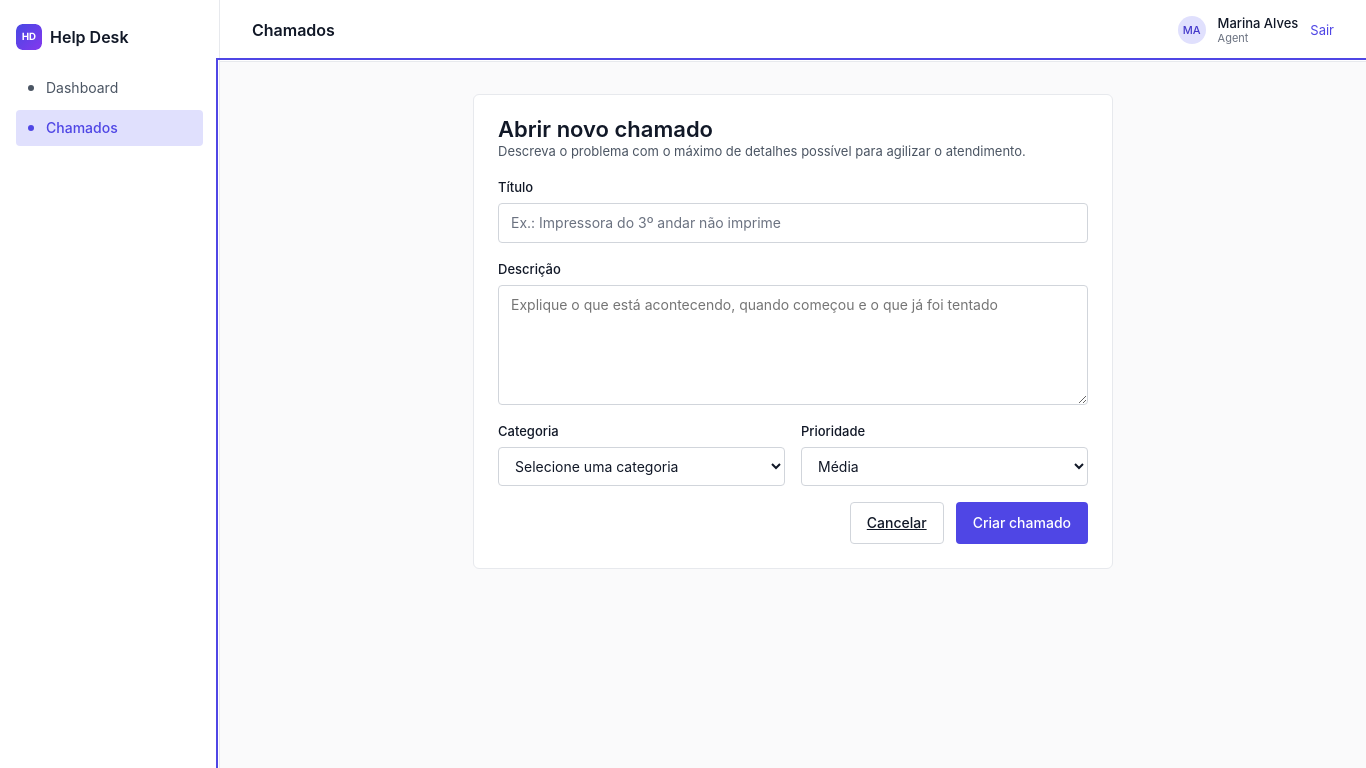
Scenario: NewTicketPage › valida campos obrigatórios
Expected: the dropdown labelled "Categoria" is shown, [498,447,785,486]
Click the button "Criar chamado" at point(1022, 523), box [956,502,1088,544]
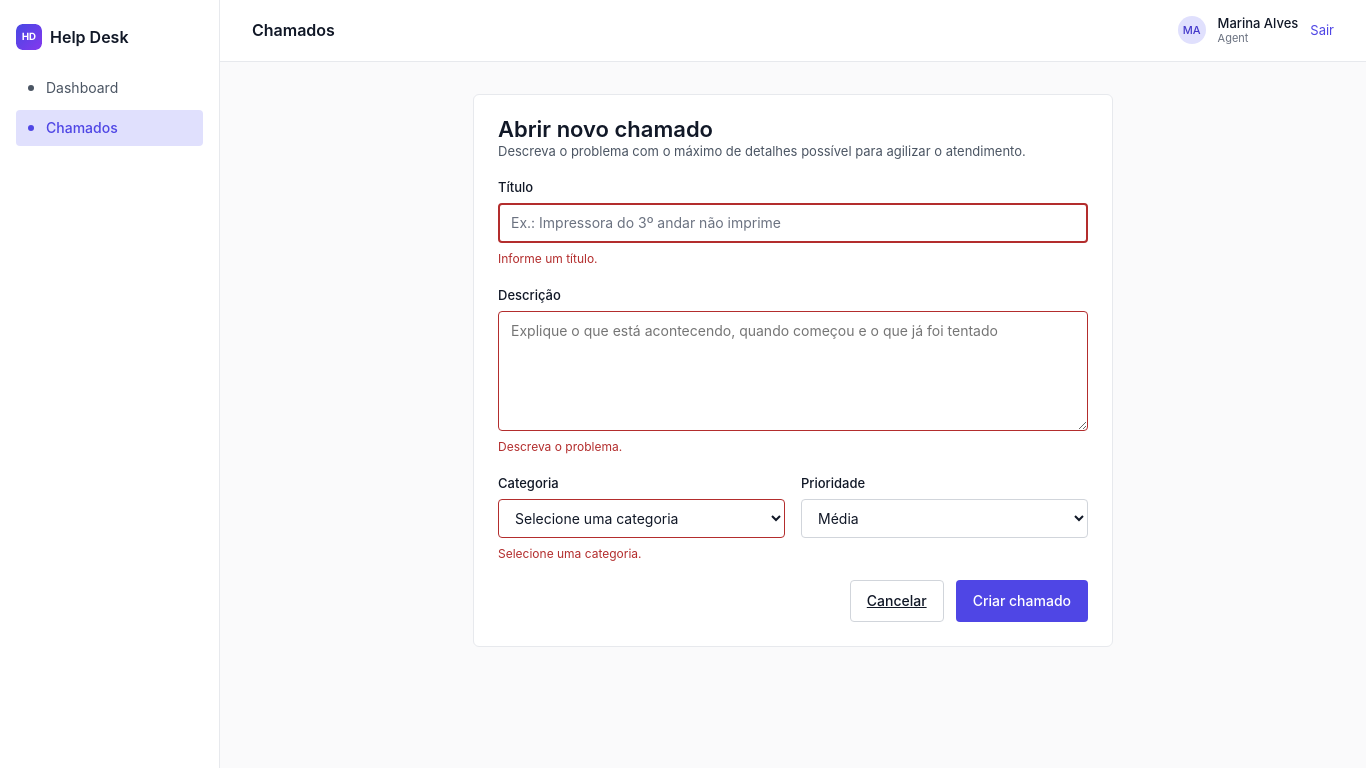
Now the text "Informe um título." is shown, box [498,251,598,266]
Now the text "Descreva o problema." is shown, box [498,439,622,454]
